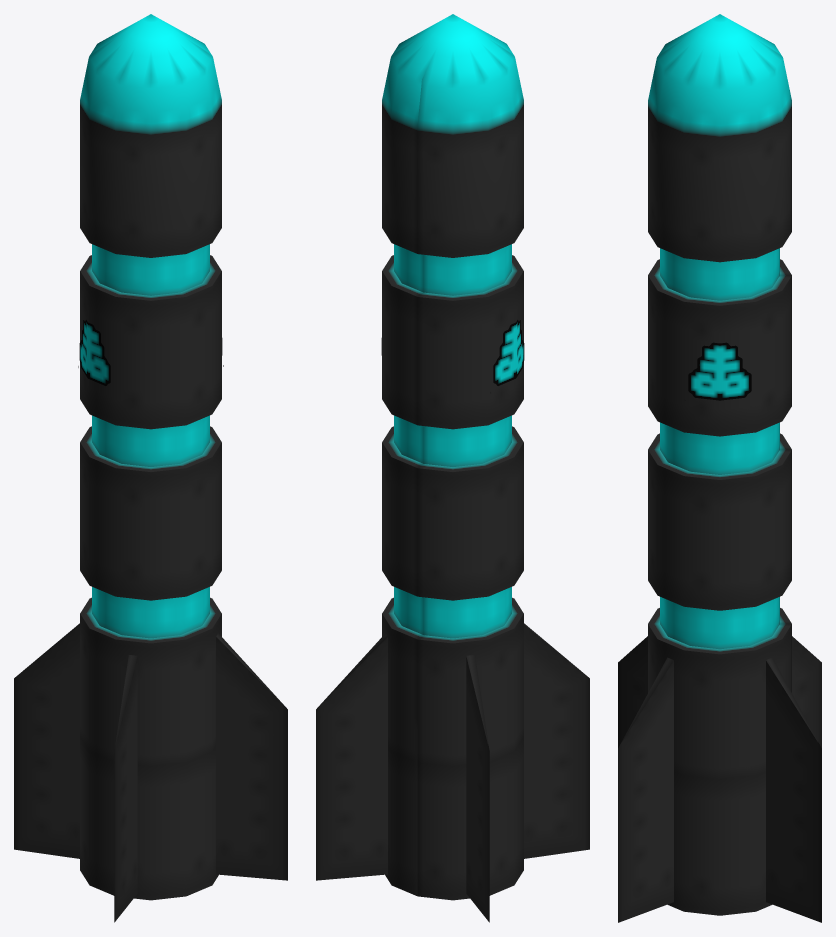
The model's file is missile_schrabidium.obj.
3 views of the same model, side by side, from view 1: azimuth 30°, elevation 25°; view 2: azimuth 150°, elevation 25°; view 3: azimuth 270°, elevation 25° (orthographic).
Parts seen in each view (by area): view 1: missile_schrabidium; view 2: missile_schrabidium; view 3: missile_schrabidium.
Part boxes in pixels (x1,y1,x2,y2): missile_schrabidium: (14,14,287,922); missile_schrabidium: (316,14,589,922); missile_schrabidium: (618,14,821,922).
Size of the model in its own units: 1.06 by 5 by 1.06.
